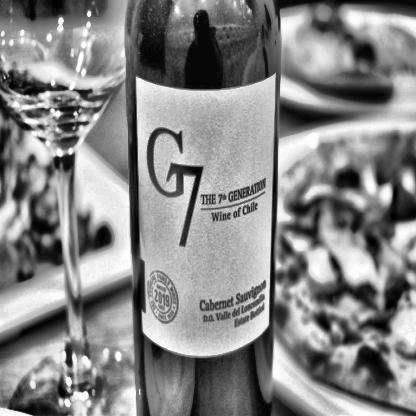G7: (134, 71, 273, 351)
